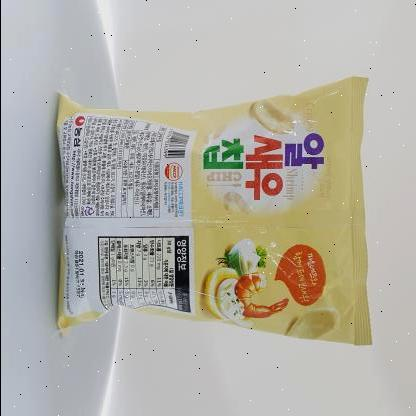Others: (46, 66, 378, 362)
